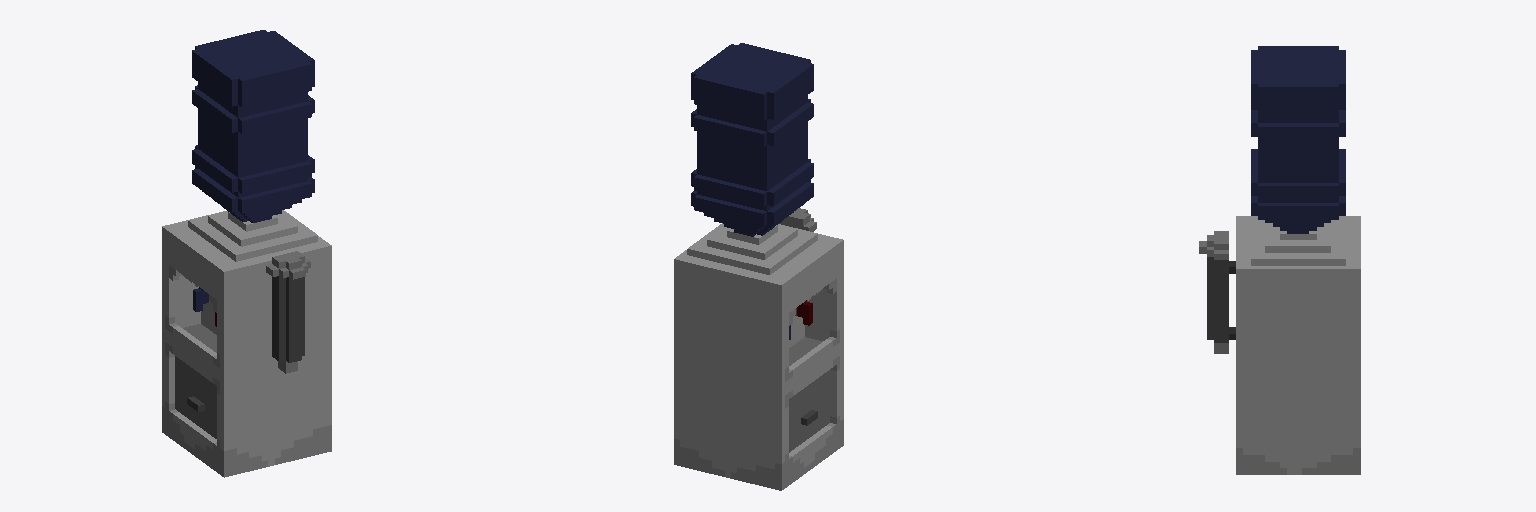
3 views of the same model, side by side, from view 1: azimuth 30°, elevation 25°; view 2: azimuth 150°, elevation 25°; view 3: azimuth 270°, elevation 25° (orthographic).
Parts seen in each view (by area): view 1: object 1; view 2: object 1; view 3: object 1.
Part boxes in pixels (left/top/right/bottom): object 1: left=162, top=30, right=331, bottom=477; object 1: left=674, top=43, right=843, bottom=490; object 1: left=1199, top=46, right=1360, bottom=474.
Size of the model in its own units: 1.7 by 5.8 by 2.2.
Materials: 1 (1 with a texture image).